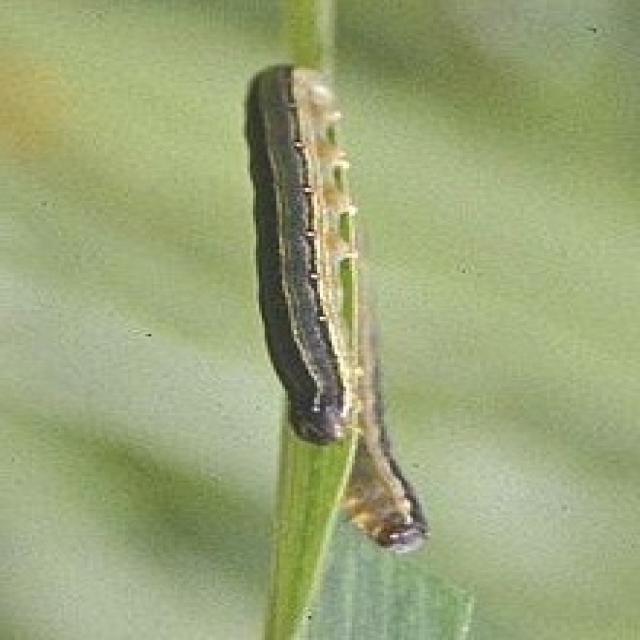army worm: (224, 57, 360, 443), (337, 265, 427, 558)
